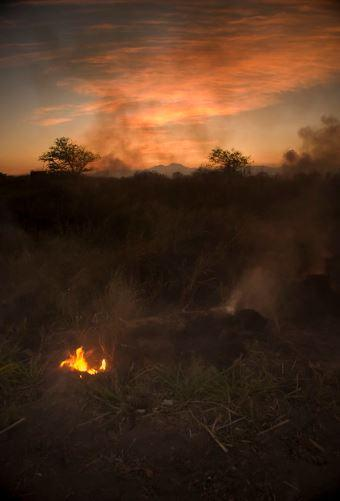fire: (64, 349, 103, 375)
